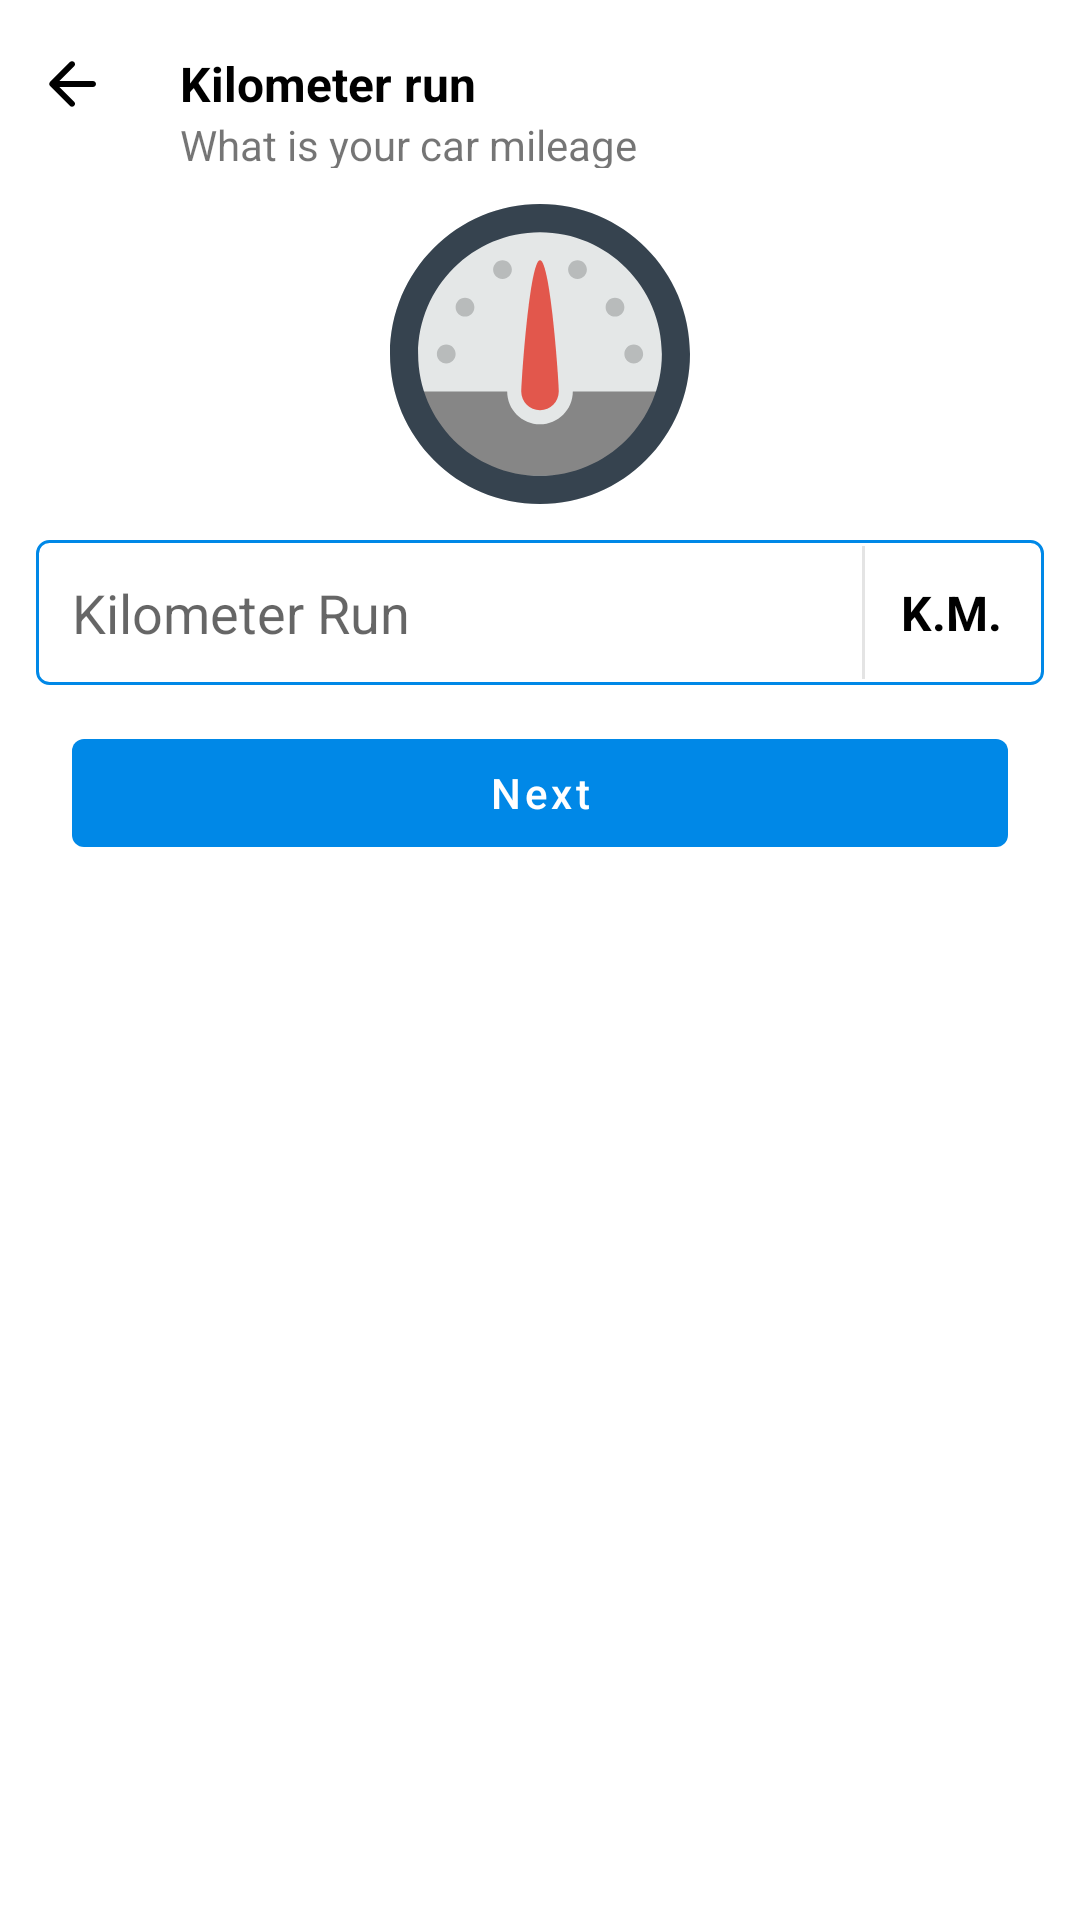

Screen size 1080w x 1920h. Icon name, then its box in pixels as (x1, y1, x2, y2):
arrow back: (49, 61, 96, 107)
